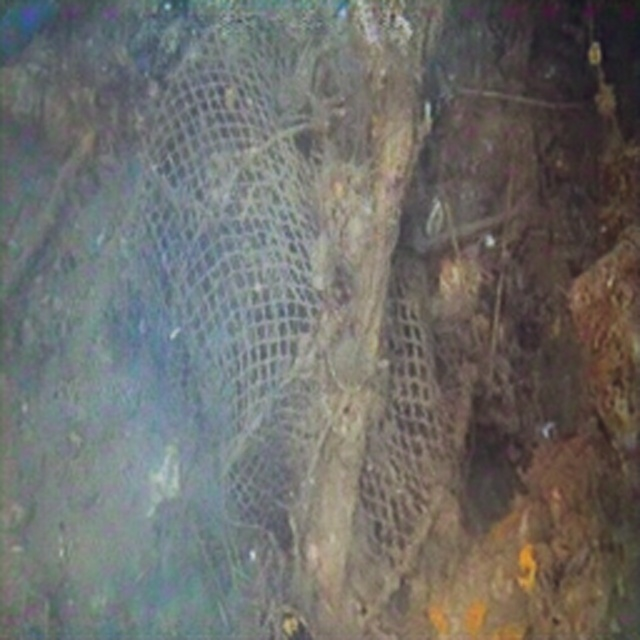mine: (128, 12, 474, 639)
